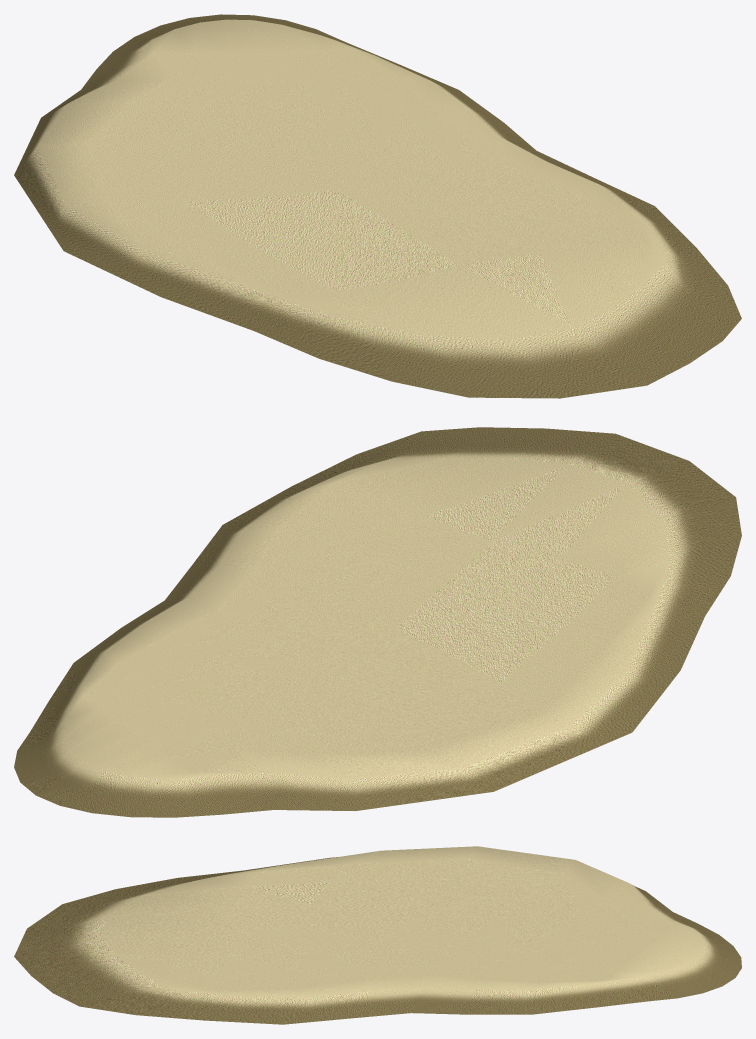
The model's file is island2.fbx.
The picture shows the model from 3 angles, top to bottom: view 1: azimuth 30°, elevation 25°; view 2: azimuth 150°, elevation 25°; view 3: azimuth 270°, elevation 25°; orthographic projection. The views are drawn at different scales.
Visible parts, largest first — view 1: Plane.003; view 2: Plane.003; view 3: Plane.003.
Boxes of the visible parts, x1=… form: Plane.003: x1=14, y1=14, x2=741, y2=398; Plane.003: x1=14, y1=427, x2=741, y2=817; Plane.003: x1=14, y1=846, x2=741, y2=1024.
Bounding box in the file's own units: 4887 × 183 × 8495.
1 material, 1 textured.
